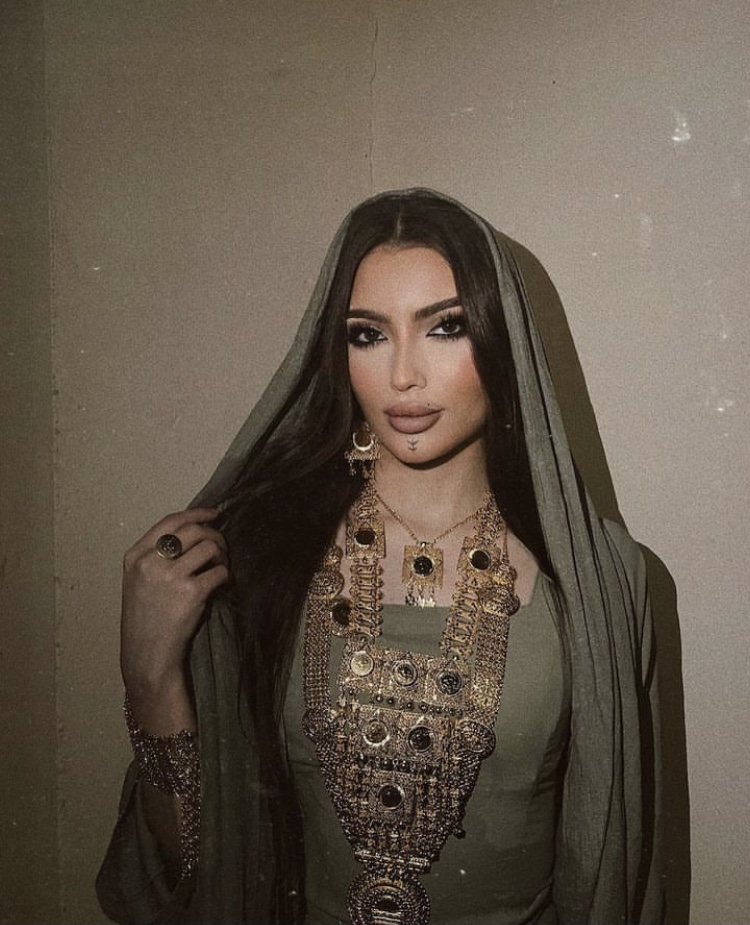Saudi_Founding_Day: (88, 183, 674, 925)
